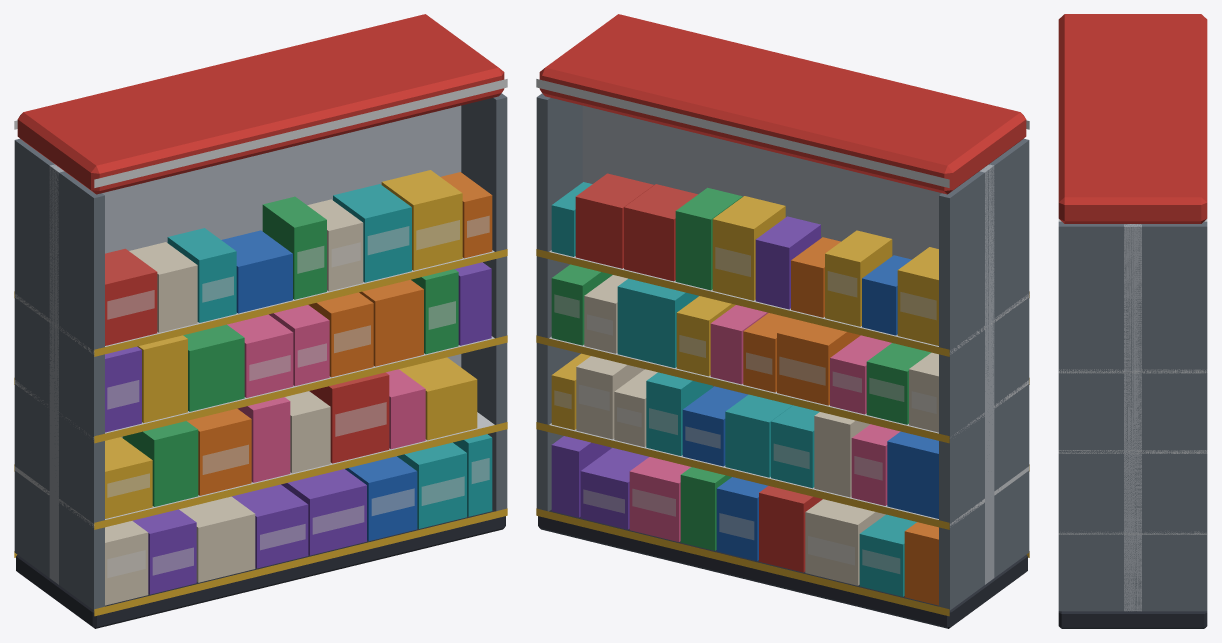
File: market-deco1.glb
The picture shows the model from 3 angles, left to right: view 1: azimuth 30°, elevation 25°; view 2: azimuth 150°, elevation 25°; view 3: azimuth 270°, elevation 25°; orthographic projection. The views are drawn at different scales.
Parts seen in each view (by area): view 1: market-deco1; view 2: market-deco1; view 3: market-deco1.
Boxes of the visible parts, x1,y1,x2,y2 form: market-deco1: (14,14,507,628); market-deco1: (536,14,1029,628); market-deco1: (1058,14,1207,628).
Size of the model in its own units: 3 by 3.2 by 1.
